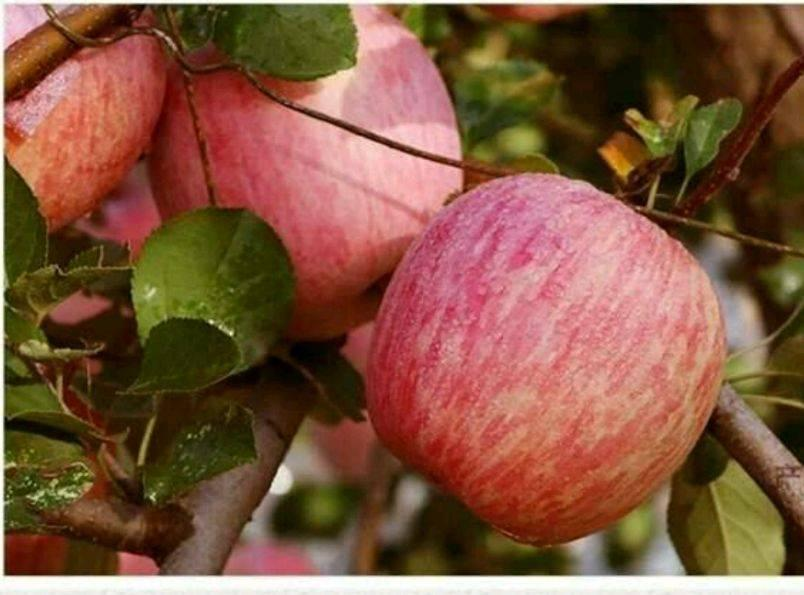apple: (361, 167, 730, 548), (147, 7, 463, 341)
